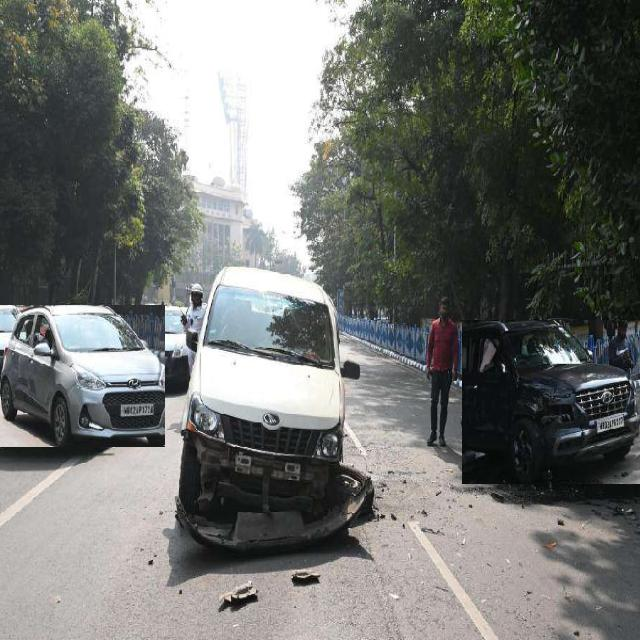accident: (176, 268, 372, 552)
car: (462, 320, 640, 484), (0, 306, 165, 447)
